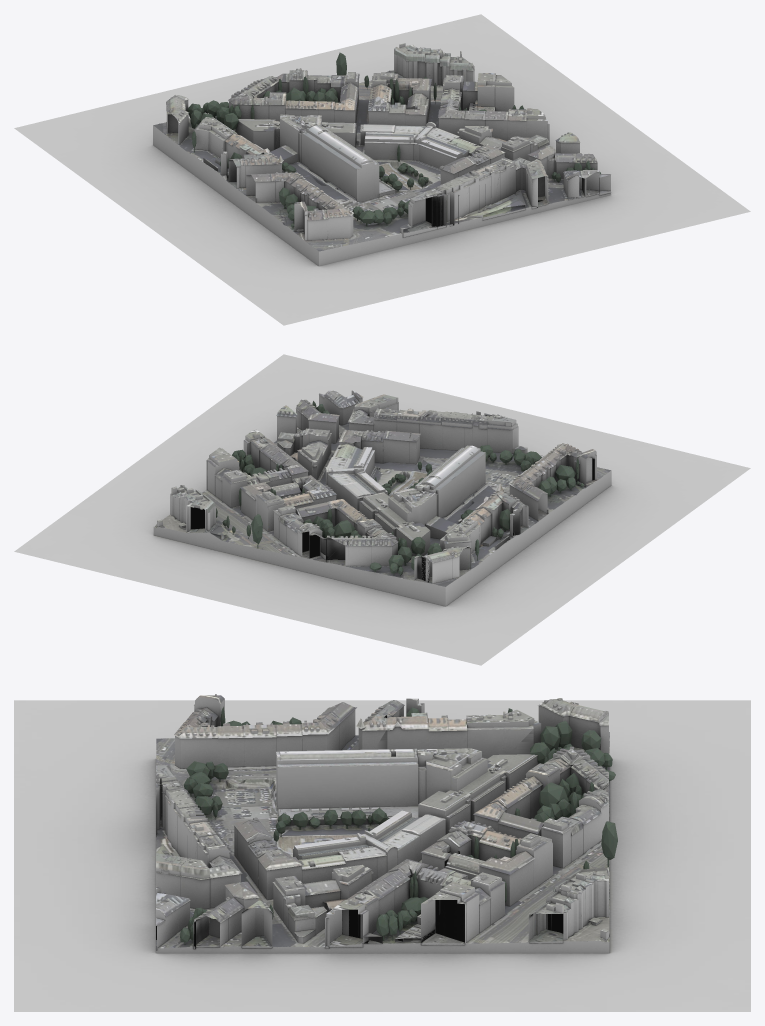
The picture shows the model from 3 angles, top to bottom: view 1: azimuth 30°, elevation 25°; view 2: azimuth 150°, elevation 25°; view 3: azimuth 270°, elevation 25°; orthographic projection. The views are drawn at different scales.
Parts seen in each view (by area): view 1: sol_sol_0, batiments_batiments_0, mnt_reduit_mnt_reduit_0, socle_socle_0, arbres_arbres_0; view 2: sol_sol_0, batiments_batiments_0, mnt_reduit_mnt_reduit_0, socle_socle_0, arbres_arbres_0; view 3: sol_sol_0, batiments_batiments_0, mnt_reduit_mnt_reduit_0, arbres_arbres_0, socle_socle_0.
Part boxes in pixels (x1,y1,x2,y2): sol_sol_0: (14, 14, 750, 325); batiments_batiments_0: (166, 43, 610, 240); mnt_reduit_mnt_reduit_0: (153, 70, 610, 251); socle_socle_0: (153, 125, 610, 266); arbres_arbres_0: (187, 52, 600, 228); sol_sol_0: (14, 354, 750, 665); batiments_batiments_0: (157, 390, 596, 583); mnt_reduit_mnt_reduit_0: (154, 423, 610, 586); socle_socle_0: (153, 470, 611, 606); arbres_arbres_0: (216, 401, 583, 575); sol_sol_0: (14, 700, 750, 1011); batiments_batiments_0: (156, 694, 608, 950); mnt_reduit_mnt_reduit_0: (156, 732, 609, 948); arbres_arbres_0: (180, 706, 617, 944); socle_socle_0: (156, 940, 609, 953).
Size of the model in its own units: 400 by 40.64 by 400.
Materials: 5 (5 with a texture image).
